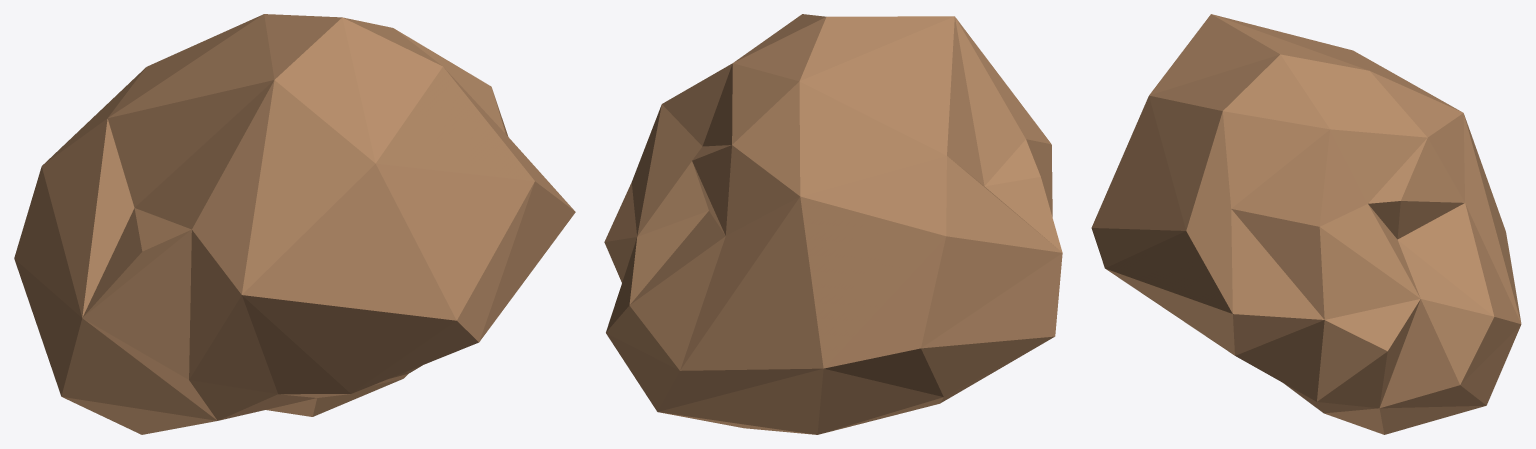
File: Boulder_02_Jagged.fbx
The picture shows the model from 3 angles, left to right: view 1: azimuth 30°, elevation 25°; view 2: azimuth 150°, elevation 25°; view 3: azimuth 270°, elevation 25°; orthographic projection. The views are drawn at different scales.
Parts seen in each view (by area): view 1: Boulder_02_Jagged; view 2: Boulder_02_Jagged; view 3: Boulder_02_Jagged.
Boxes of the visible parts, bbox=[...] form: Boulder_02_Jagged: bbox=[14, 14, 575, 434]; Boulder_02_Jagged: bbox=[604, 14, 1062, 434]; Boulder_02_Jagged: bbox=[1091, 14, 1521, 434].
Bounding box in the file's own units: 2.61 × 2.35 × 2.49.
